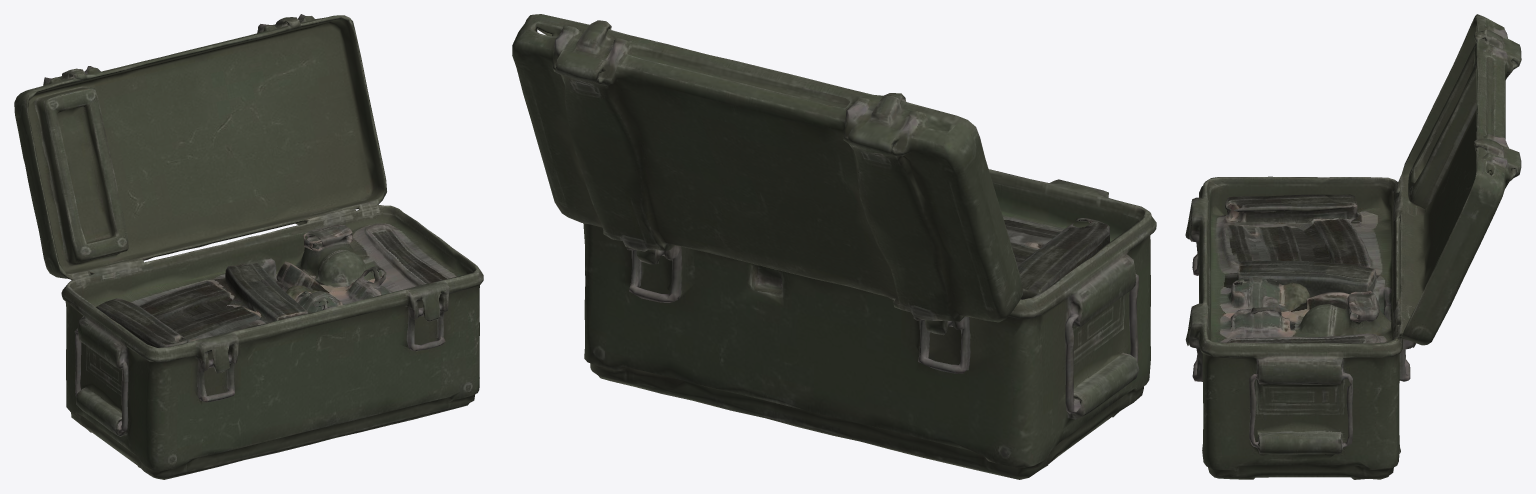
File: prop_ammo.glb
3 renders of one model, left to right at view 1: azimuth 30°, elevation 25°; view 2: azimuth 150°, elevation 25°; view 3: azimuth 270°, elevation 25°, orthographic. The views are drawn at different scales.
Size of the model in its own units: 0.9972 by 0.8095 by 0.7821.
Materials: 1 (1 with a texture image).
